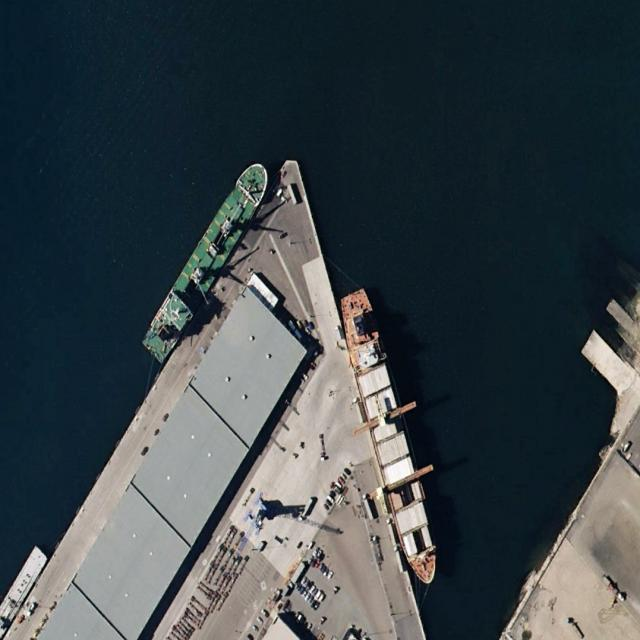Cargo: (335, 285, 444, 592), (138, 153, 276, 367)
